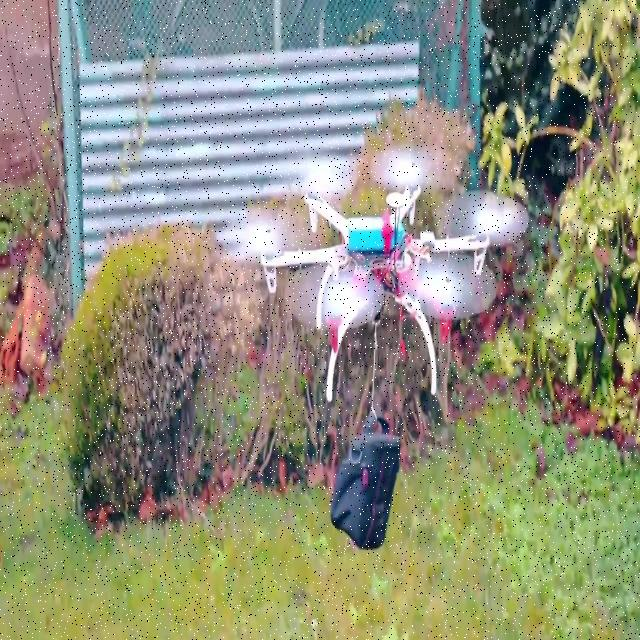UAV: (219, 146, 529, 404)
